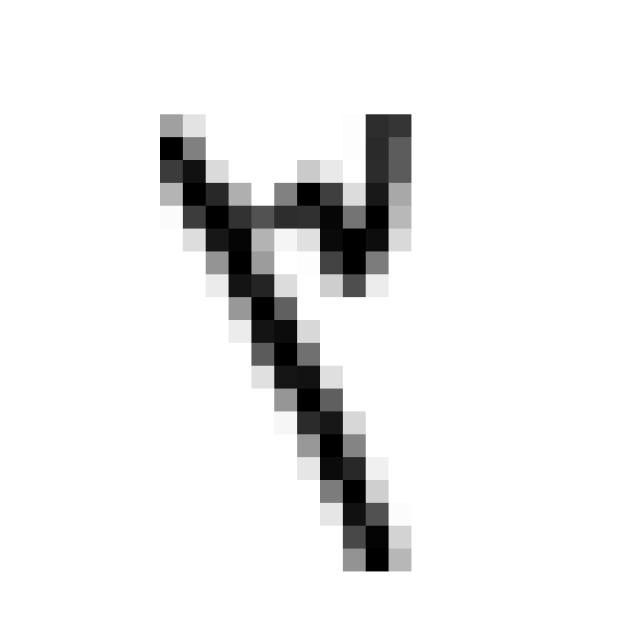3 -three-: (134, 71, 430, 594)
